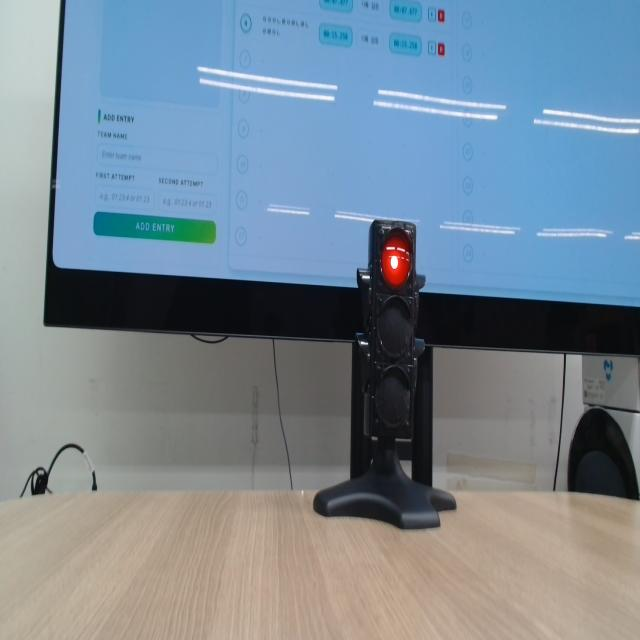red_light: (381, 234, 410, 287)
